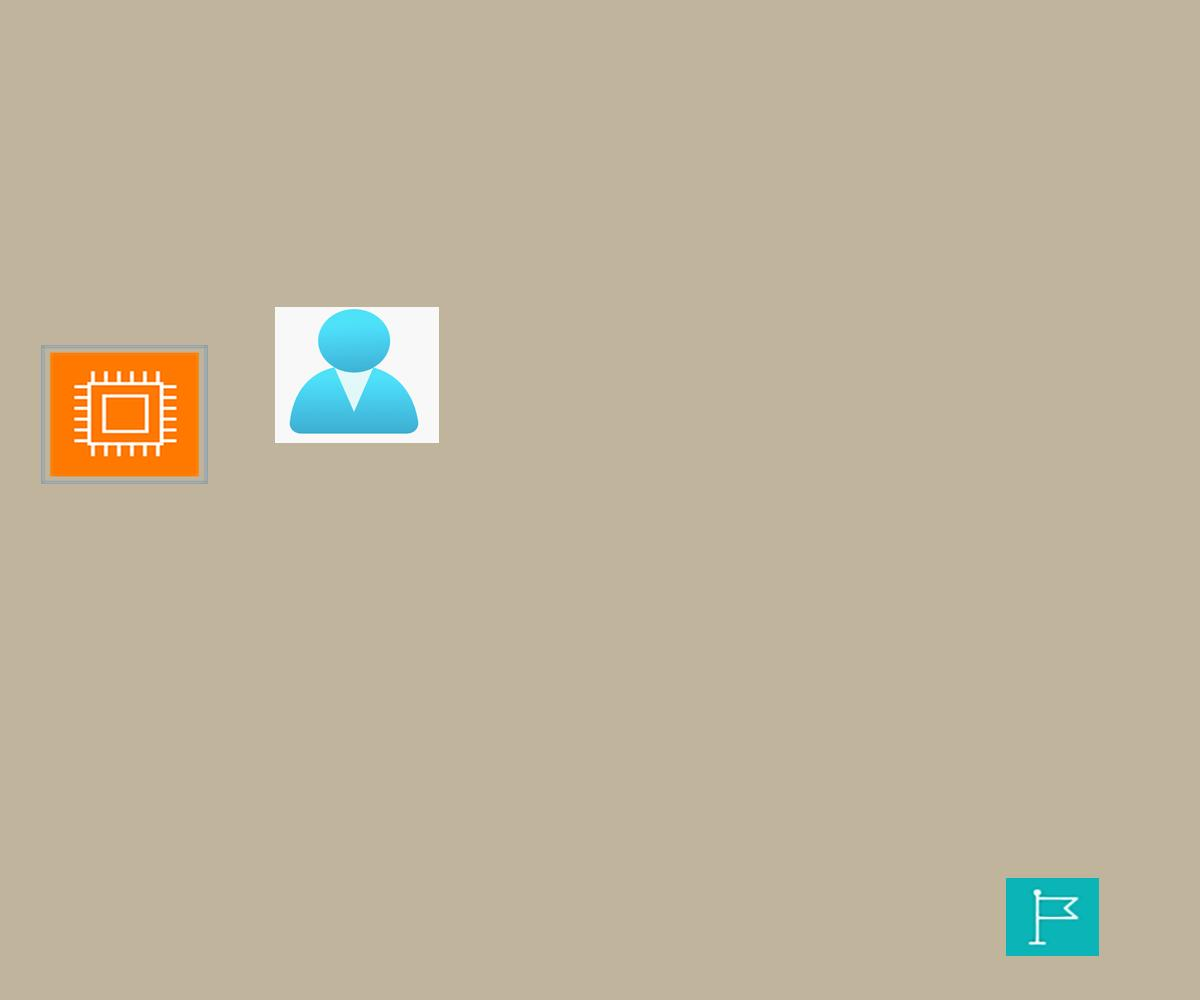AWS-Category_Compute: (41, 345, 208, 484)
AWS-Region: (1006, 878, 1099, 956)
Azure_users: (275, 307, 439, 443)
